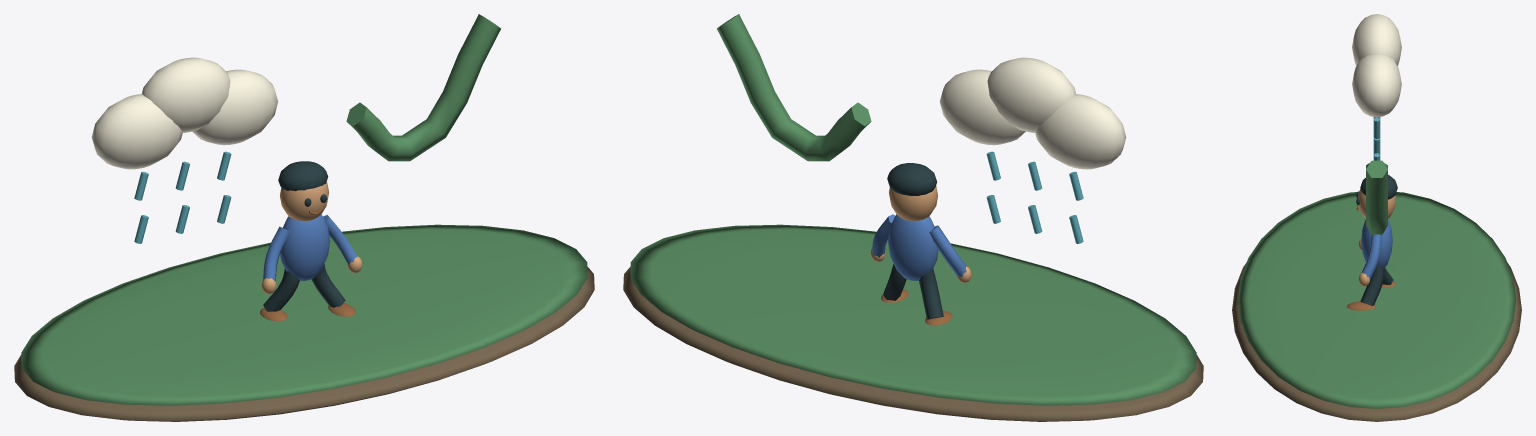
The model's file is complete-first-although-rain.glb.
3 views of the same model, side by side, from view 1: azimuth 30°, elevation 25°; view 2: azimuth 150°, elevation 25°; view 3: azimuth 270°, elevation 25° (orthographic). The views are drawn at different scales.
Parts seen in each view (by area): view 1: complete-first-although-rain_surface_01, complete-first-although-rain_surface_02, complete-first-although-rain_surface_00, complete-first-although-rain_surface_07, complete-first-although-rain_surface_05, complete-first-although-rain_surface_04, complete-first-although-rain_surface_03, complete-first-although-rain_surface_06; view 2: complete-first-although-rain_surface_01, complete-first-although-rain_surface_02, complete-first-although-rain_surface_00, complete-first-although-rain_surface_07, complete-first-although-rain_surface_05, complete-first-although-rain_surface_03, complete-first-although-rain_surface_04; view 3: complete-first-although-rain_surface_01, complete-first-although-rain_surface_00, complete-first-although-rain_surface_02, complete-first-although-rain_surface_07, complete-first-although-rain_surface_05, complete-first-although-rain_surface_04, complete-first-although-rain_surface_03, complete-first-although-rain_surface_06.
Boxes of the visible parts, <box> form: complete-first-although-rain_surface_01: <box>21,14,587,405</box>; complete-first-although-rain_surface_02: <box>91,57,278,169</box>; complete-first-although-rain_surface_00: <box>14,266,594,421</box>; complete-first-although-rain_surface_07: <box>263,214,357,281</box>; complete-first-although-rain_surface_05: <box>263,161,345,311</box>; complete-first-although-rain_surface_04: <box>261,182,362,294</box>; complete-first-although-rain_surface_03: <box>134,151,231,243</box>; complete-first-although-rain_surface_06: <box>260,208,355,321</box>; complete-first-although-rain_surface_01: <box>630,14,1196,405</box>; complete-first-although-rain_surface_02: <box>939,57,1126,169</box>; complete-first-although-rain_surface_00: <box>623,266,1203,421</box>; complete-first-although-rain_surface_07: <box>872,214,966,280</box>; complete-first-although-rain_surface_05: <box>883,163,943,319</box>; complete-first-although-rain_surface_03: <box>986,151,1083,243</box>; complete-first-although-rain_surface_04: <box>870,185,971,282</box>; complete-first-although-rain_surface_01: <box>1238,160,1515,408</box>; complete-first-although-rain_surface_00: <box>1232,262,1521,421</box>; complete-first-although-rain_surface_02: <box>1352,14,1401,117</box>; complete-first-although-rain_surface_07: <box>1361,219,1392,279</box>; complete-first-although-rain_surface_05: <box>1356,174,1397,305</box>; complete-first-although-rain_surface_04: <box>1358,189,1395,286</box>; complete-first-although-rain_surface_03: <box>1373,117,1380,160</box>; complete-first-although-rain_surface_06: <box>1347,205,1396,310</box>.
Size of the model in its own units: 4.56 by 2.45 by 2.5.
